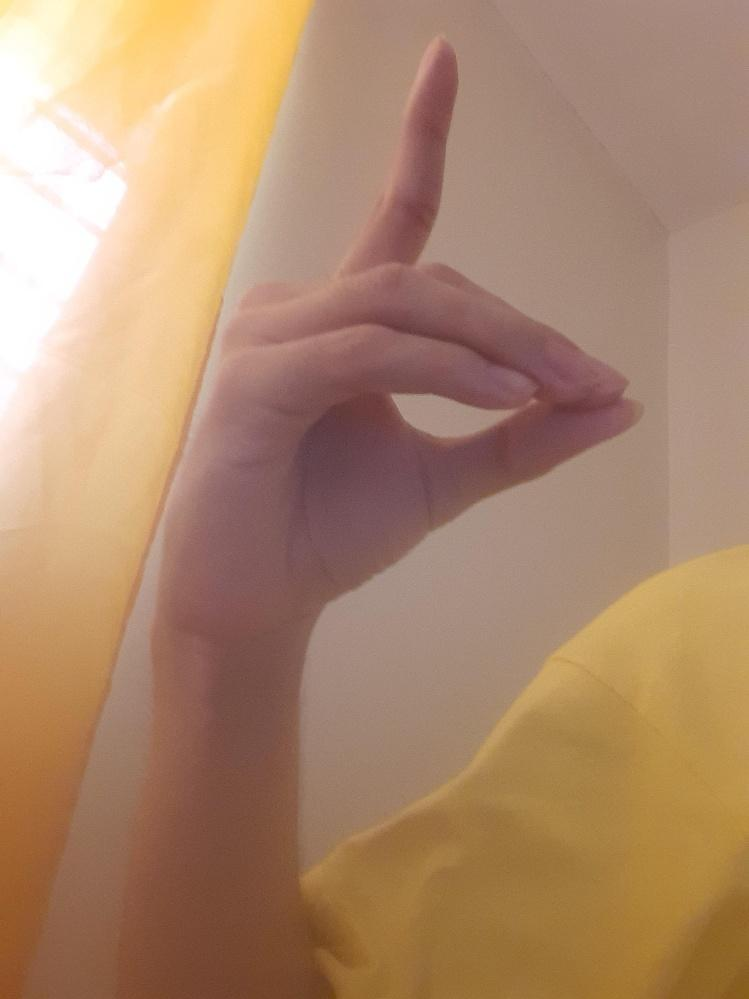d: (164, 37, 640, 580)
